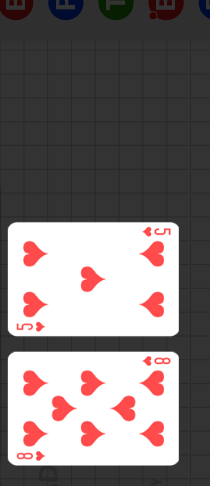5H: (141, 226, 172, 238)
8H: (140, 354, 172, 368)
